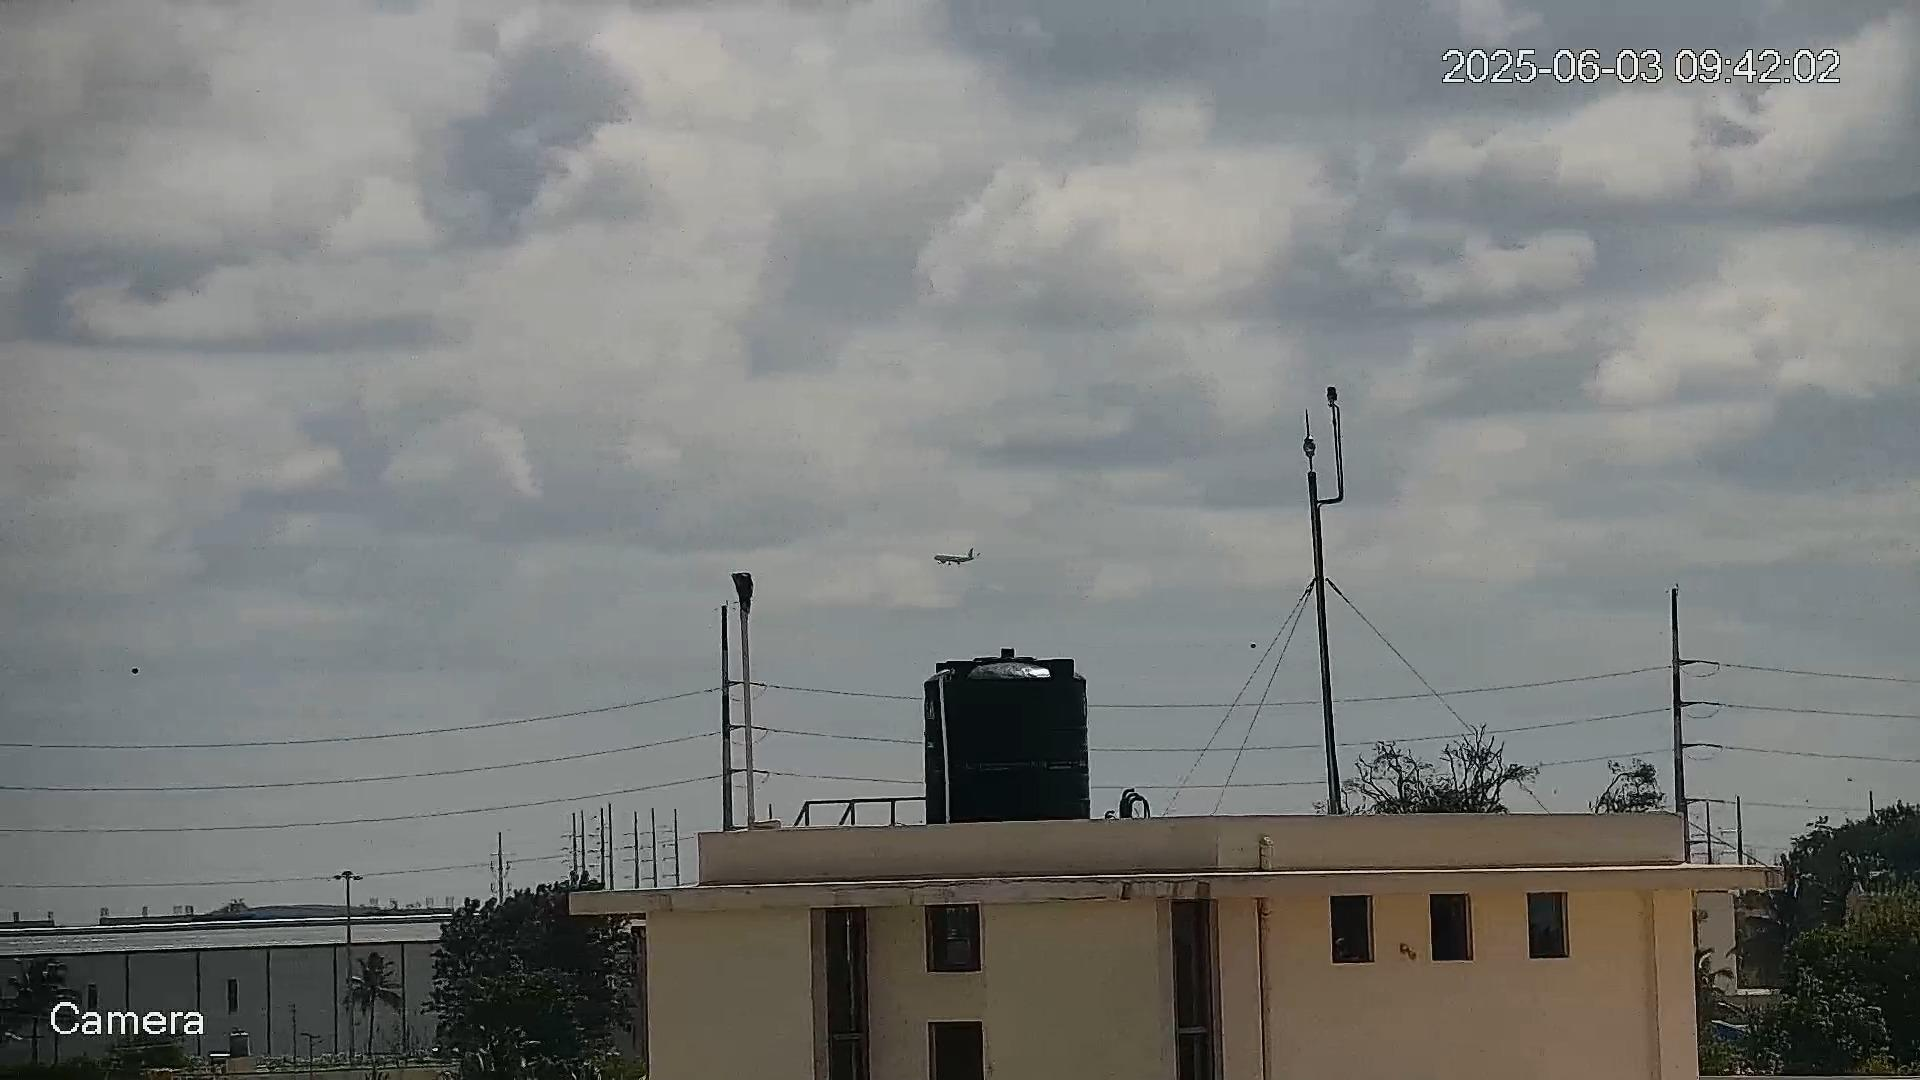Aircraft: (932, 547, 980, 567)
